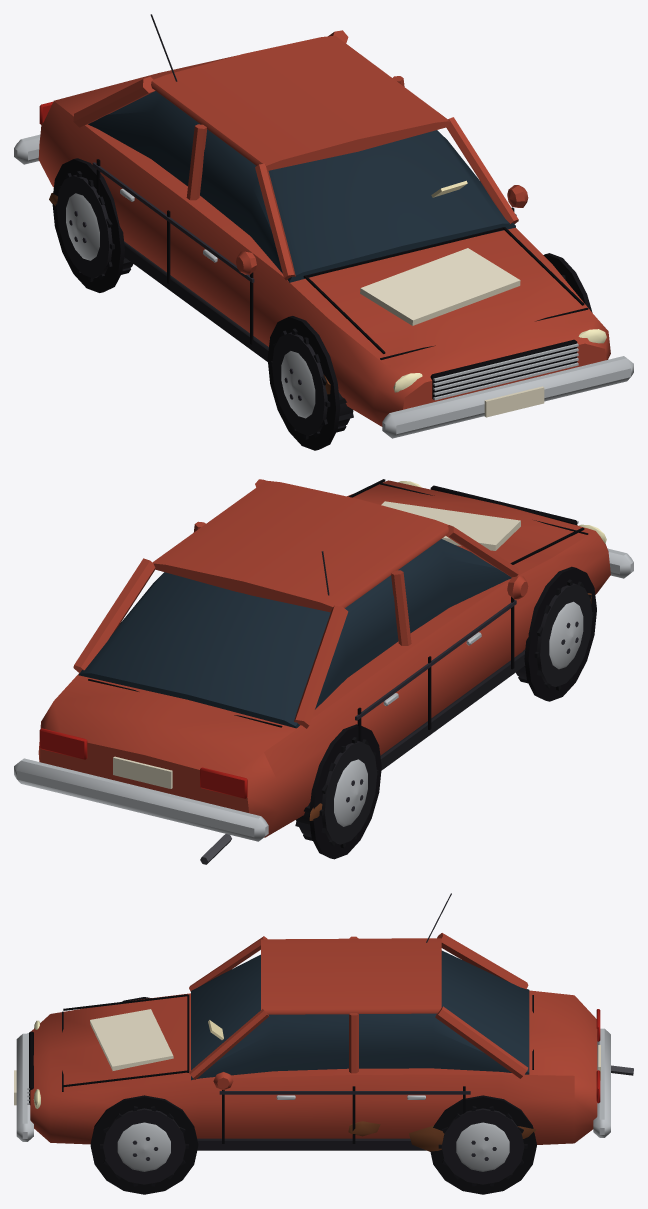
File: car_parked_red.glb
3 renders of one model, top to bottom at view 1: azimuth 30°, elevation 25°; view 2: azimuth 150°, elevation 25°; view 3: azimuth 270°, elevation 25°, orthographic. The views are drawn at different scales.
Visible parts, largest first — view 1: car_parked_red; view 2: car_parked_red; view 3: car_parked_red.
Boxes of the visible parts, <box> form: car_parked_red: <box>14,14,633,450</box>; car_parked_red: <box>14,479,633,864</box>; car_parked_red: <box>14,893,633,1194</box>.
Bounding box in the file's own units: 2.06 × 1.92 × 4.94.
